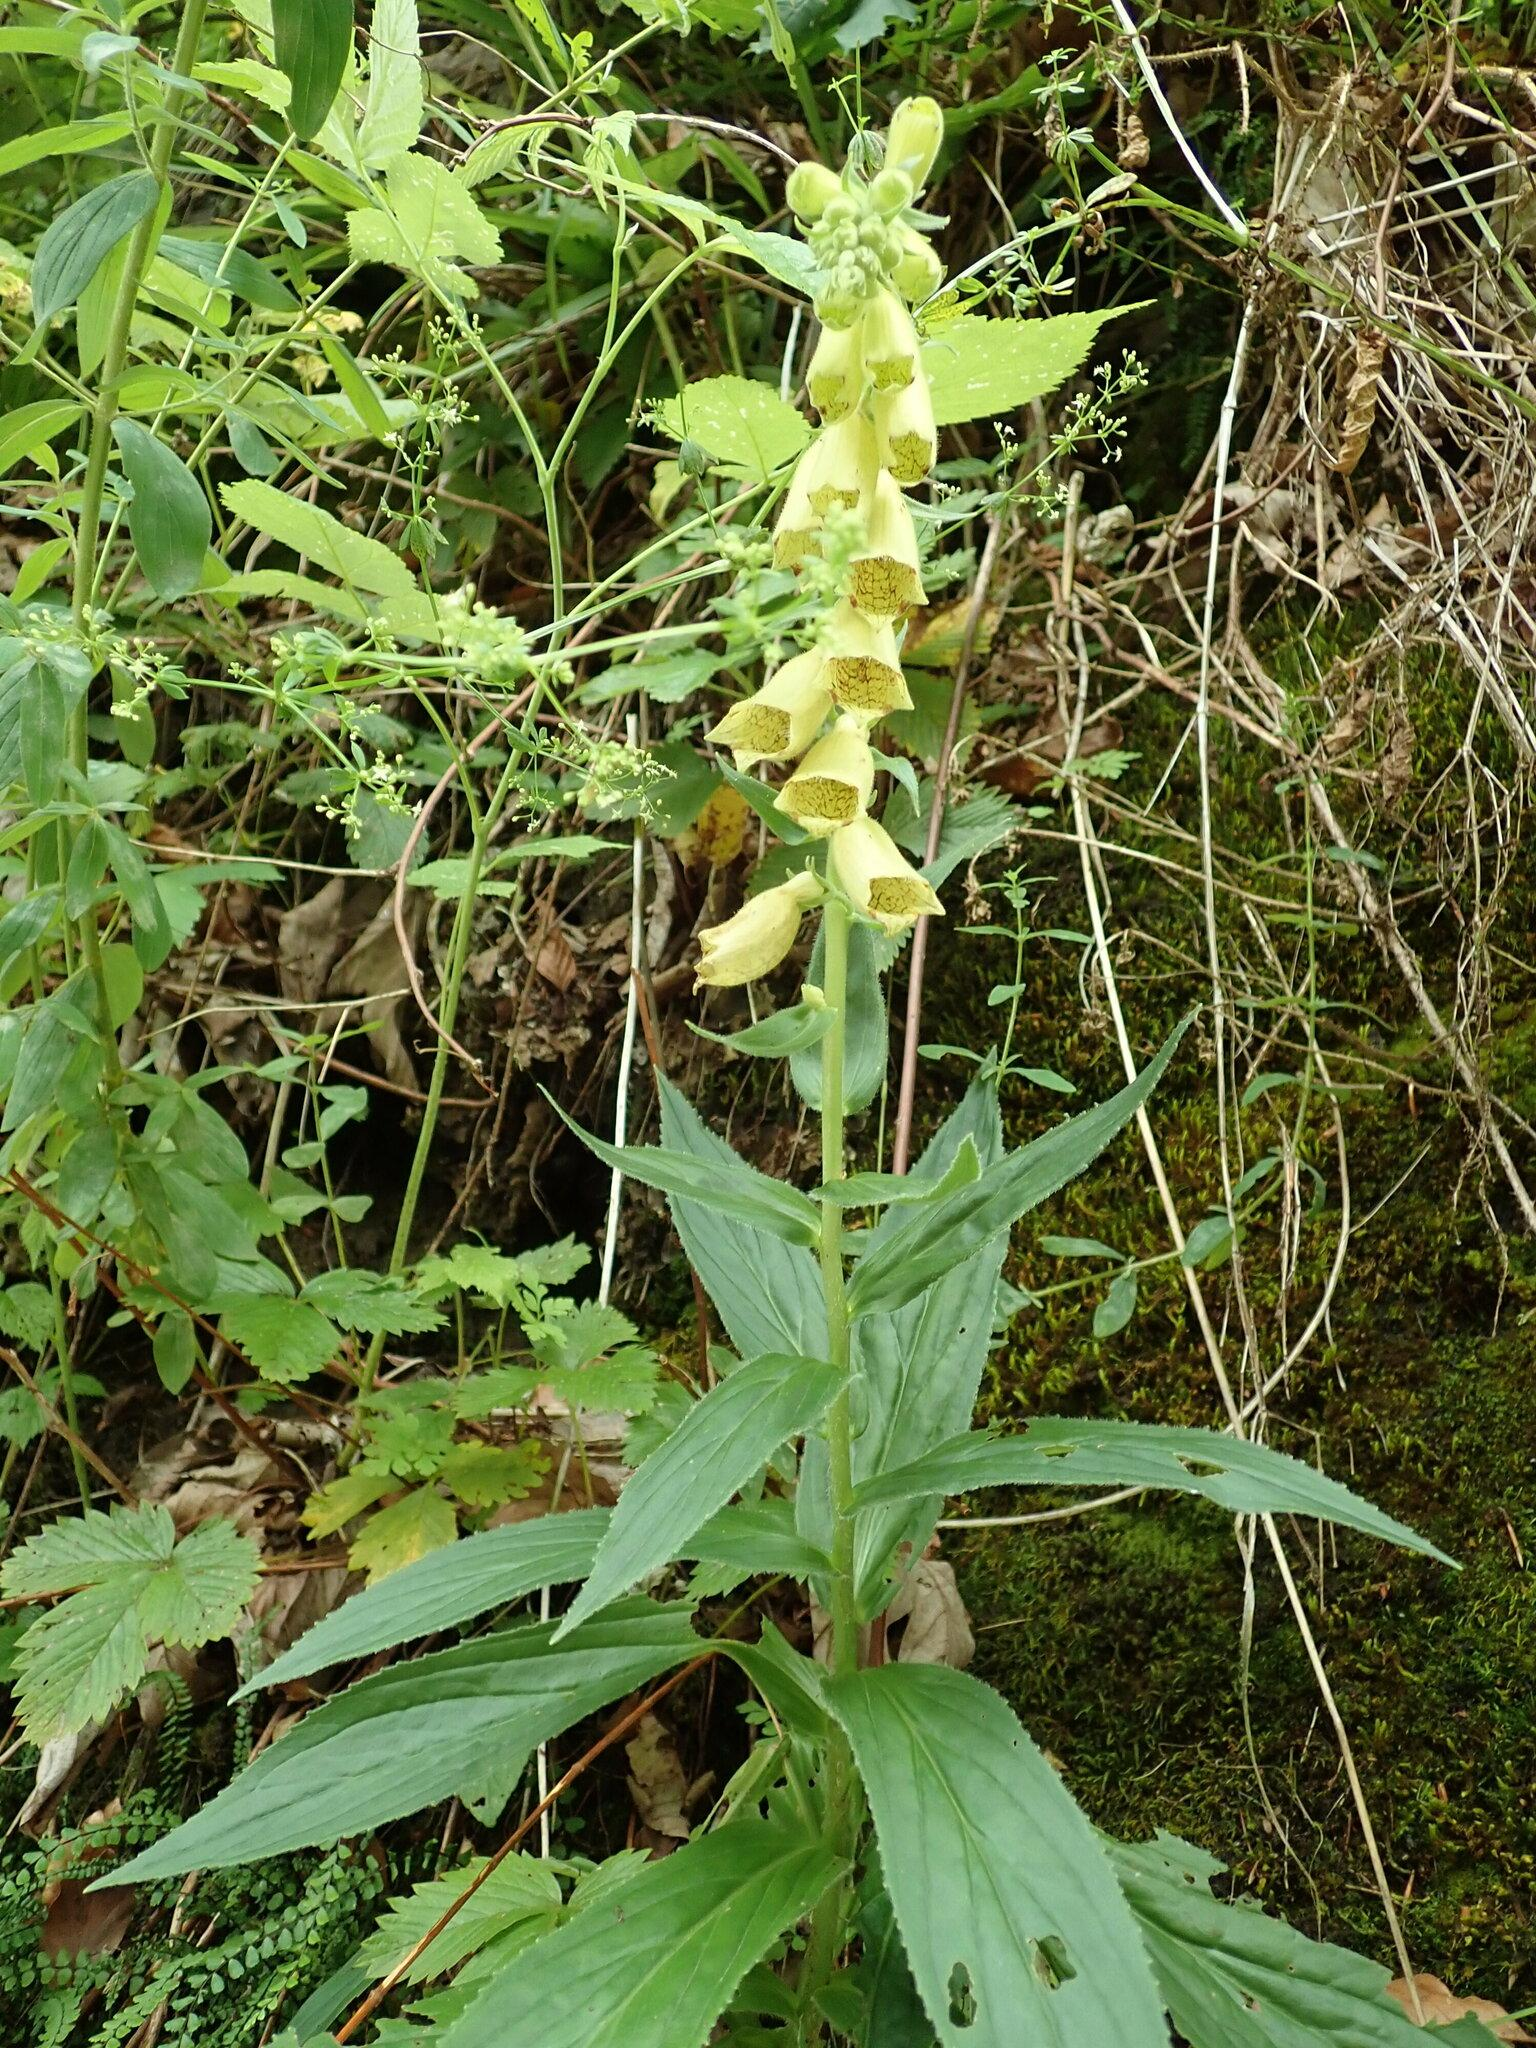Digitalis L: (615, 123, 1118, 1983)
